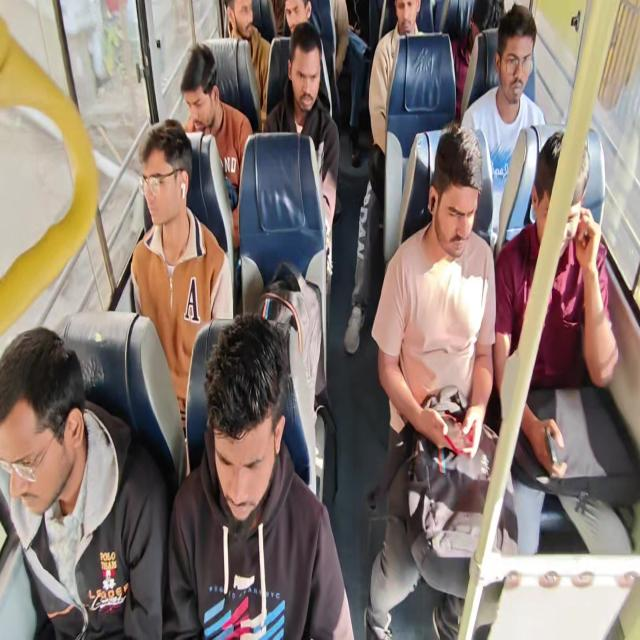person: (205, 340, 285, 530), (4, 344, 83, 520), (533, 147, 584, 271), (136, 142, 194, 235), (434, 147, 476, 271), (180, 48, 218, 124), (498, 22, 528, 118), (458, 0, 506, 48), (294, 34, 320, 120), (218, 0, 258, 44), (389, 0, 424, 39), (284, 0, 309, 41)
